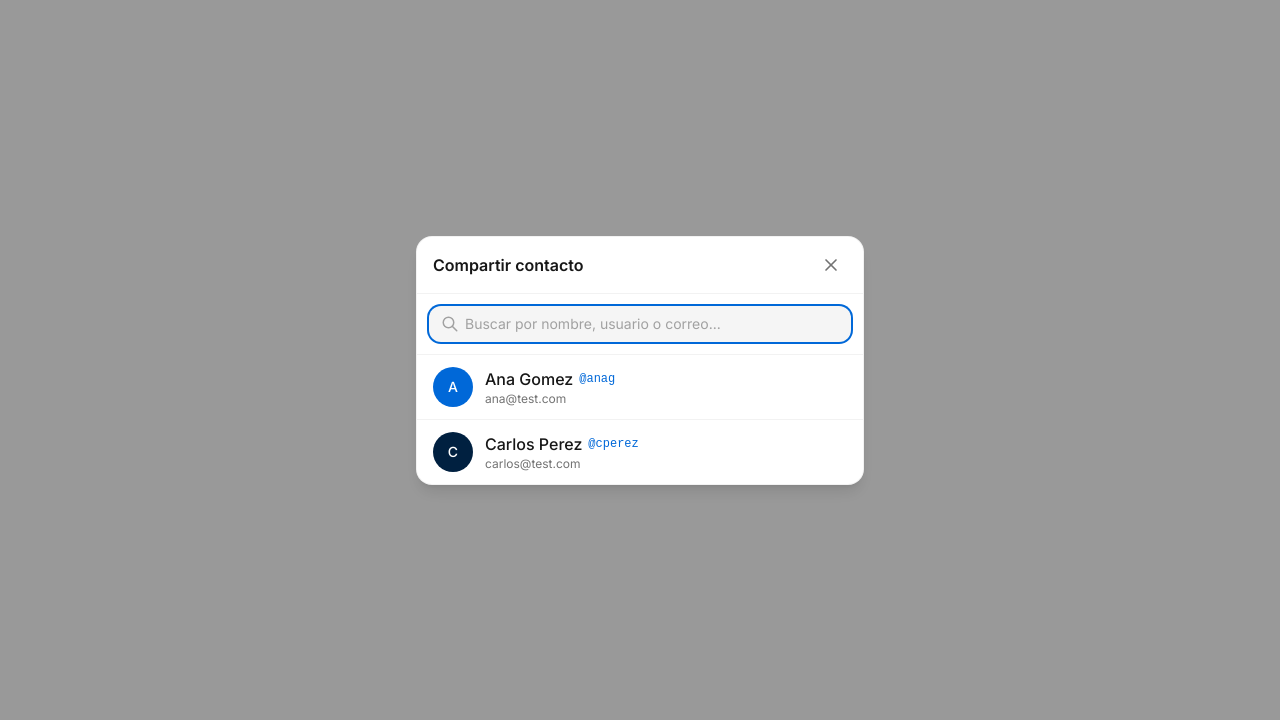
Test: ShareContactModal › filtra contactos por texto de búsqueda
The width and height of the screenshot is (1280, 720).
Type "cperez" into the field with placeholder "Buscar por nombre, usuario o correo..." at (640, 324), box [429,306,851,342]
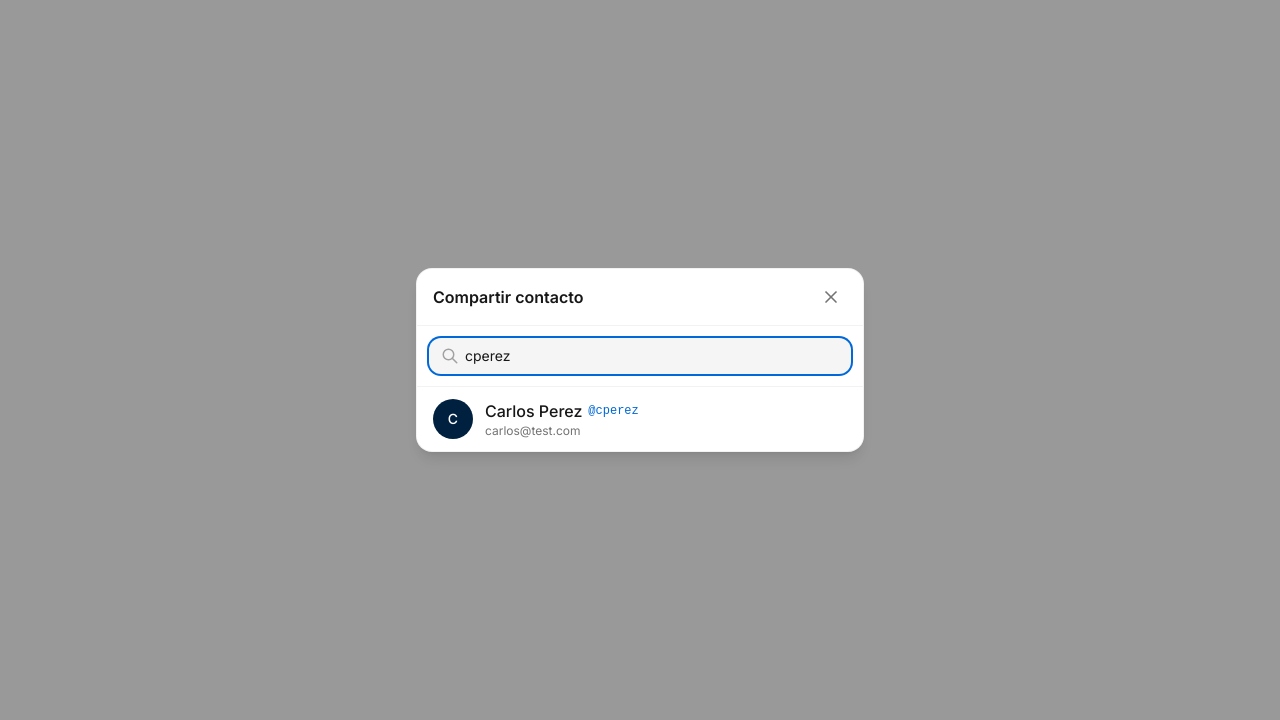
expect the text "Carlos Perez" is shown: met, box [485,399,582,423]
expect the button "Ana Gomez" is gone: met
